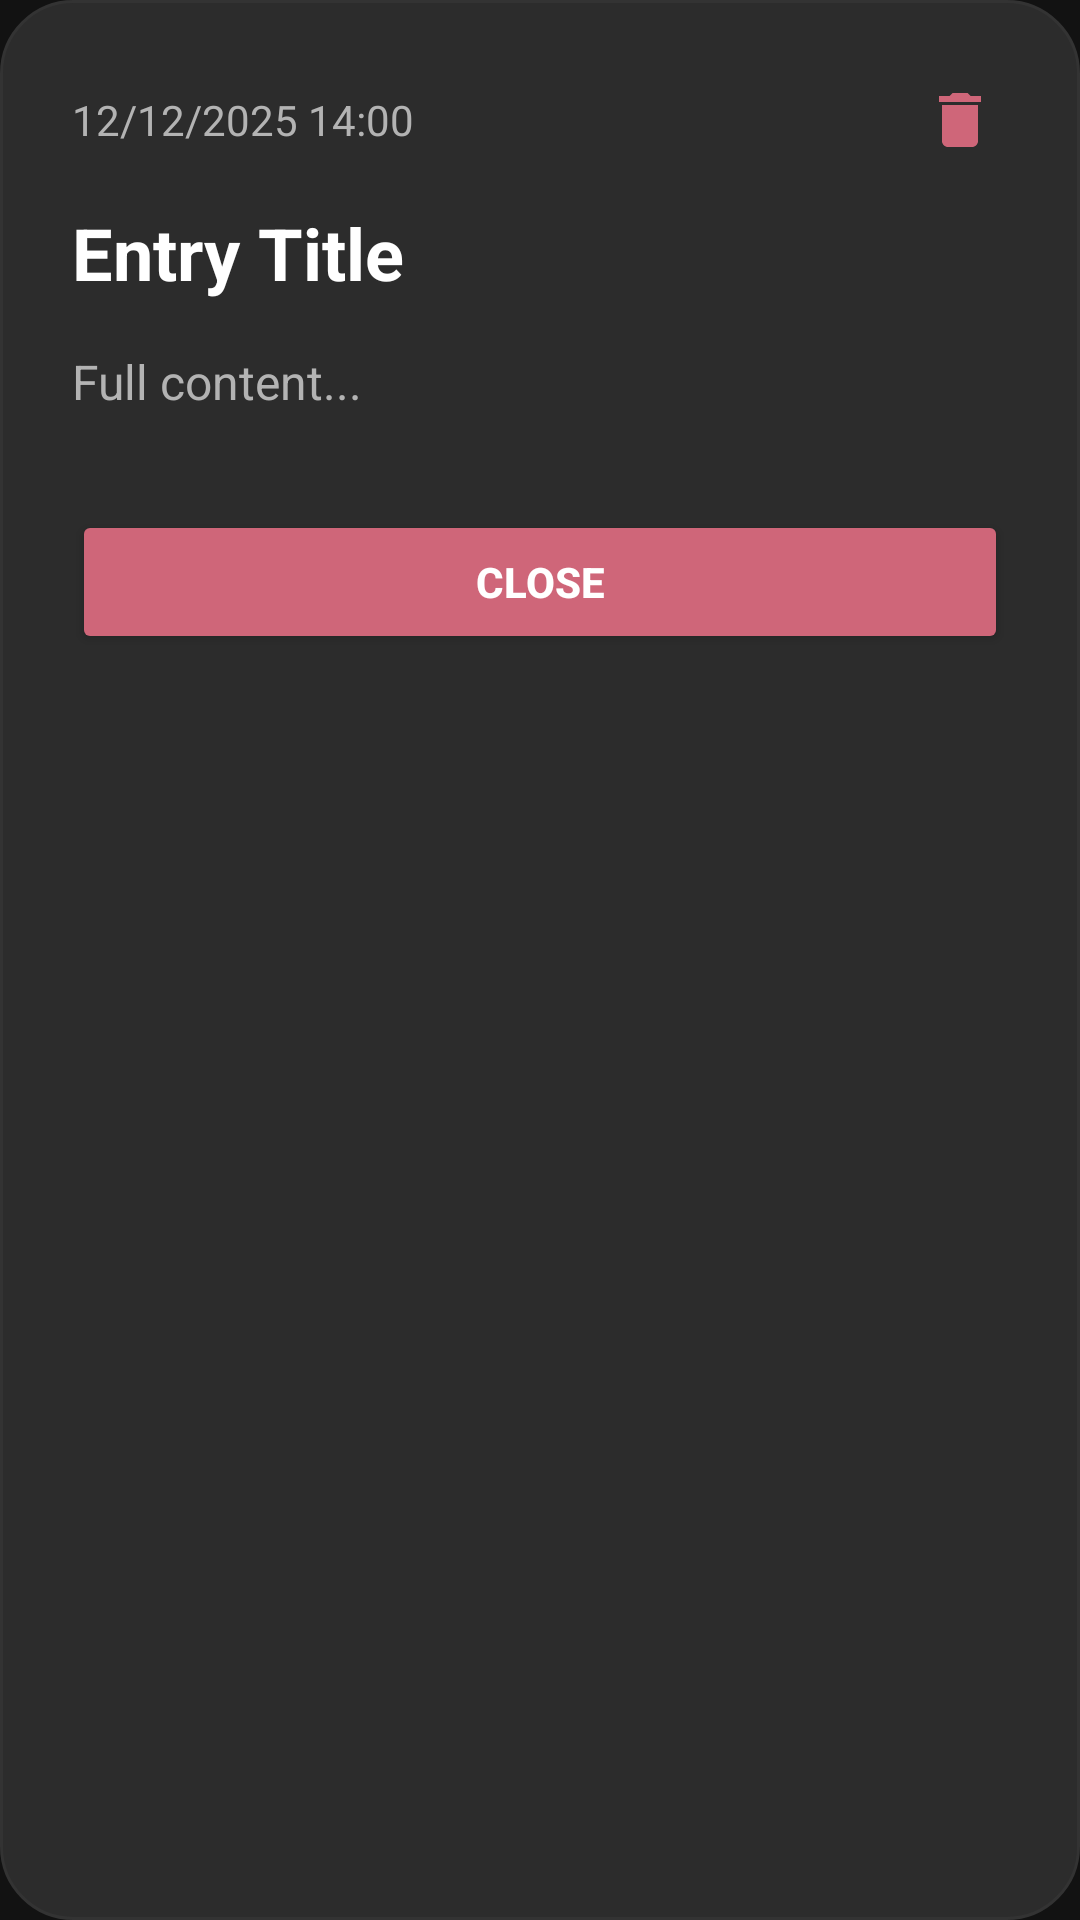

Where to tap for icons on this 1080×1920 app screen, as (x=x, y=y):
Delete entry: (x=960, y=120)
